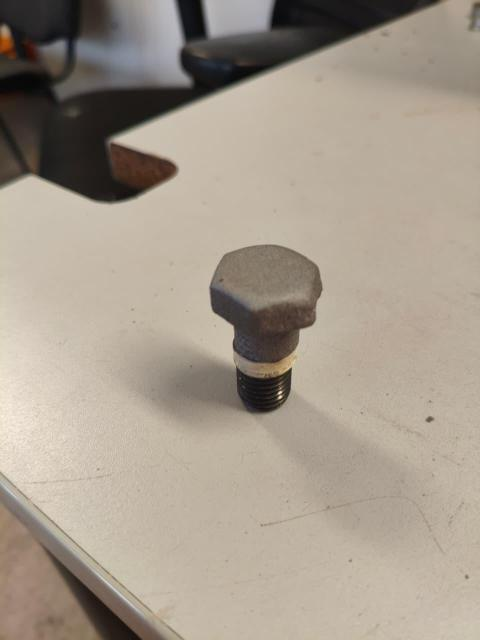Metal: (210, 242, 323, 415)
